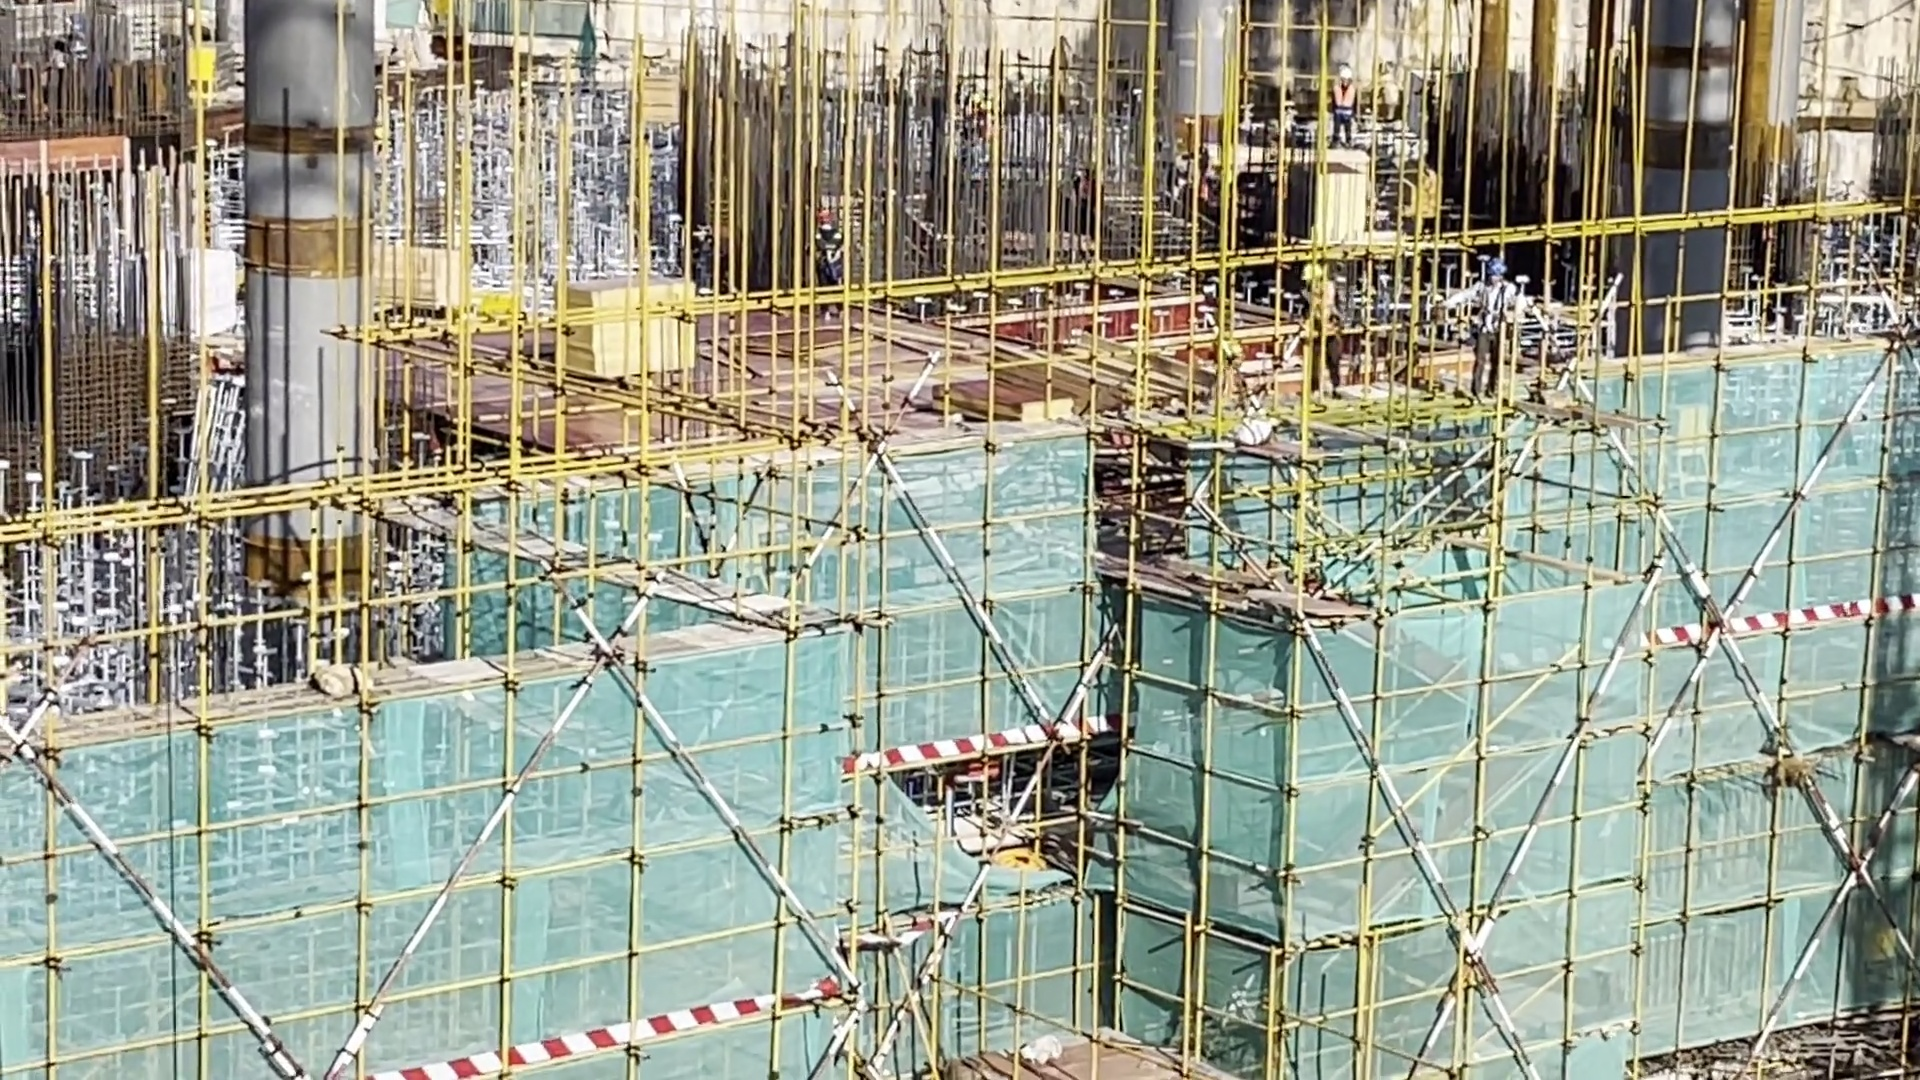board: (564, 271, 708, 376), (958, 352, 1071, 434), (644, 66, 693, 159)
helmet: (1304, 261, 1326, 283), (1488, 259, 1506, 284), (1205, 141, 1225, 162), (821, 209, 833, 230), (666, 214, 683, 224), (1339, 68, 1348, 81)
person: (1472, 265, 1521, 421), (1291, 263, 1352, 375), (1179, 143, 1239, 223), (814, 205, 854, 313), (671, 208, 727, 276), (1322, 53, 1361, 146)
vest: (1469, 287, 1504, 346), (1303, 289, 1338, 336), (1193, 162, 1212, 205), (1335, 76, 1355, 111), (819, 237, 838, 275), (687, 228, 706, 260)
wood: (1031, 339, 1169, 439), (386, 236, 451, 319)
